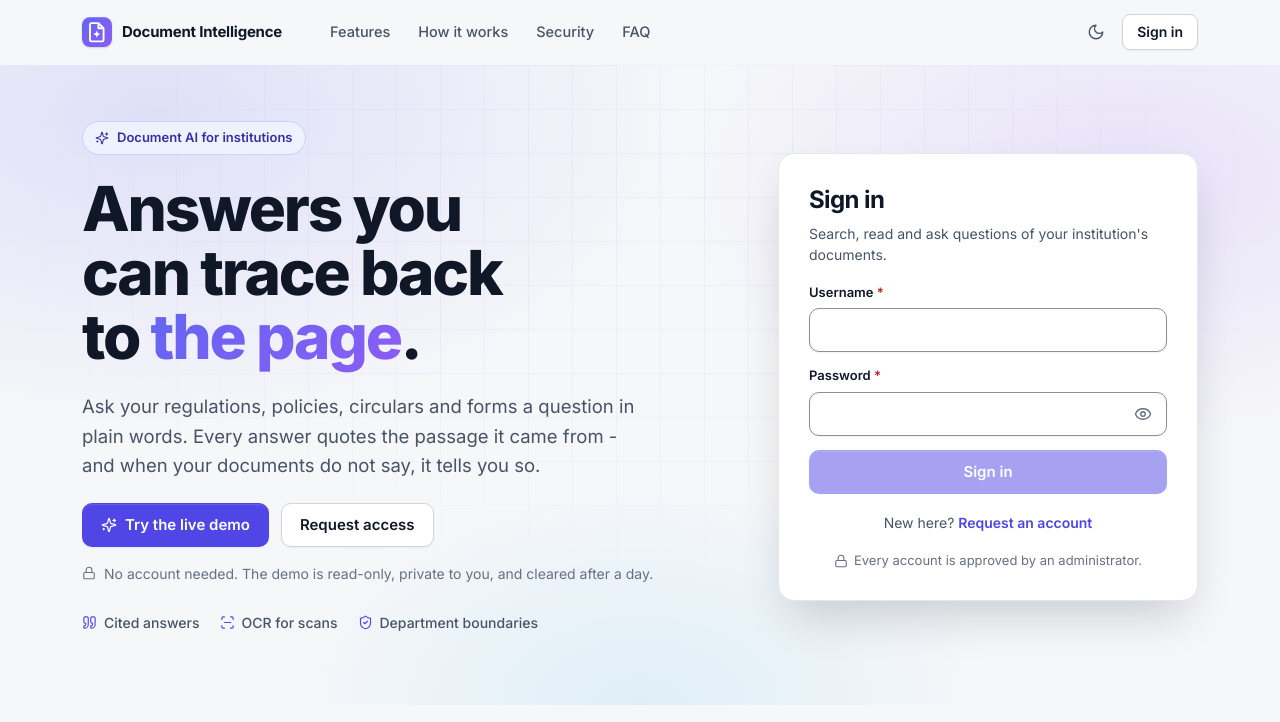
the landing page › signs in from the hero
Type "asha" into the field labelled "Username *".
click(988, 330); type("asha")  # box [809, 308, 1167, 352]
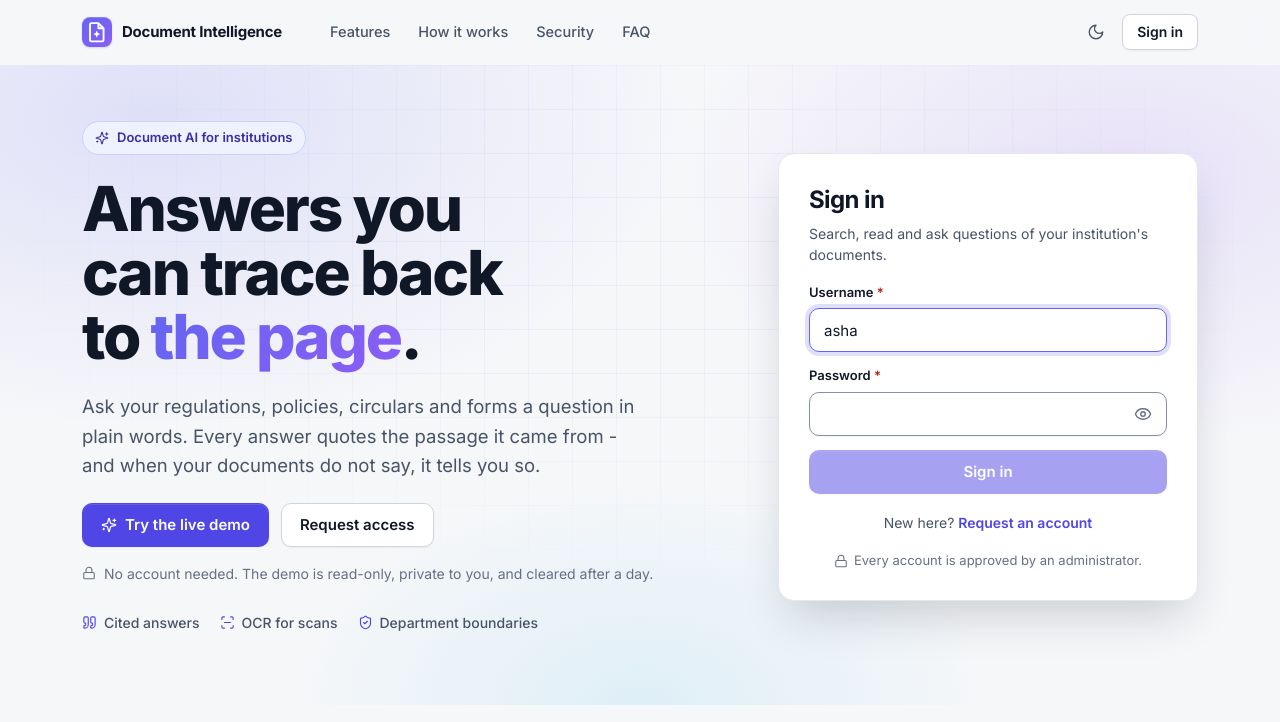
Type "secret-pass" into the password field labelled "Password *".
click(988, 414); type("secret-pass")  # box [809, 392, 1167, 436]
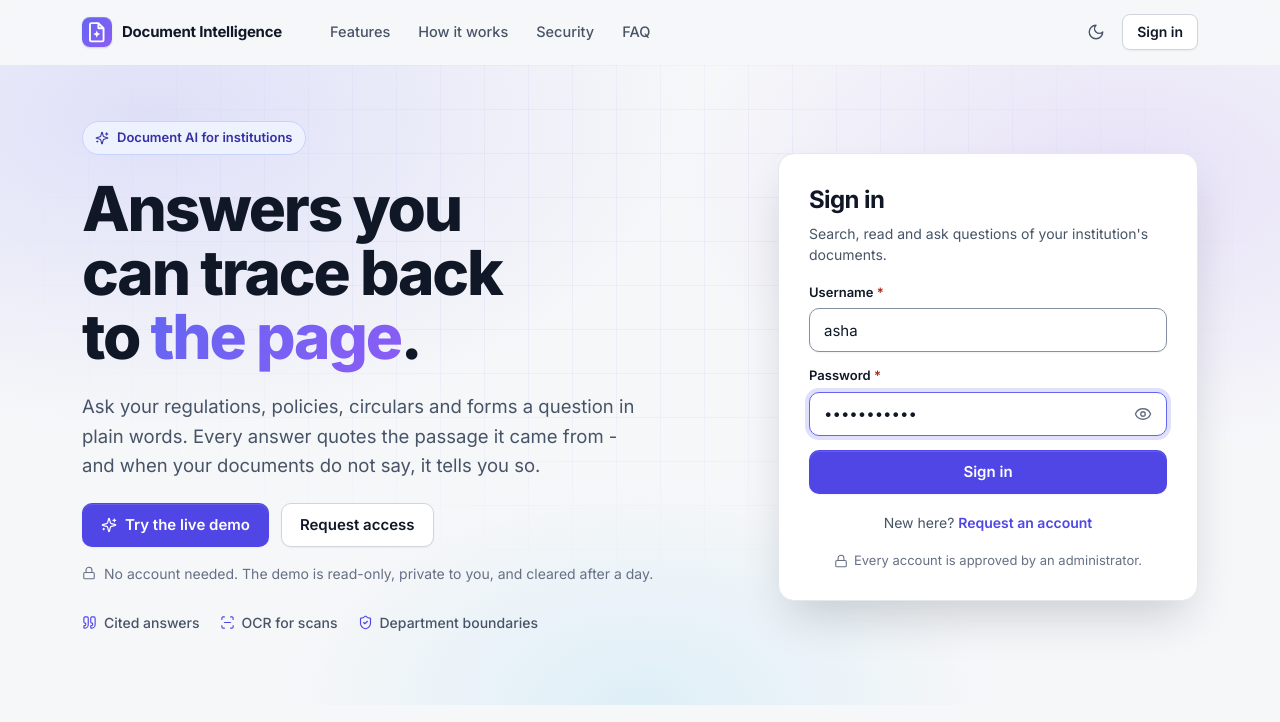
Click the button "Sign in".
click(988, 472)  # box [809, 450, 1167, 494]
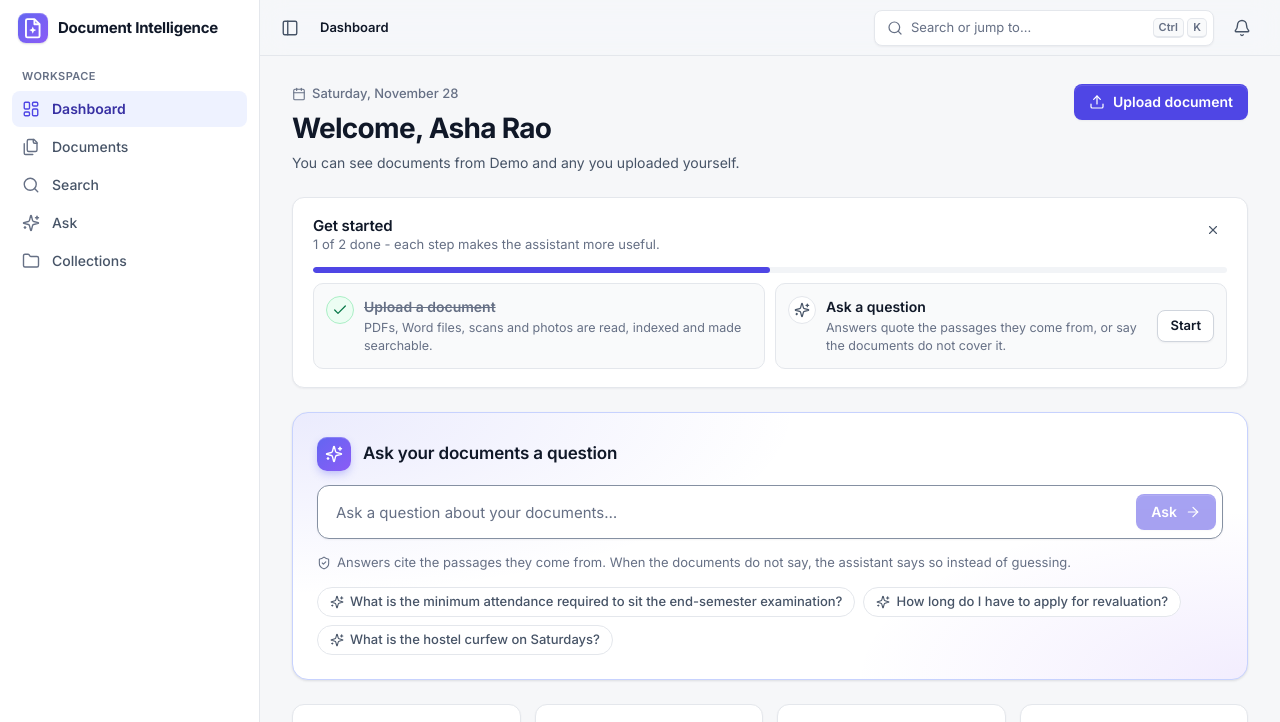
Check: the heading "Welcome, Asha Rao" is shown, box [292, 110, 551, 144]
